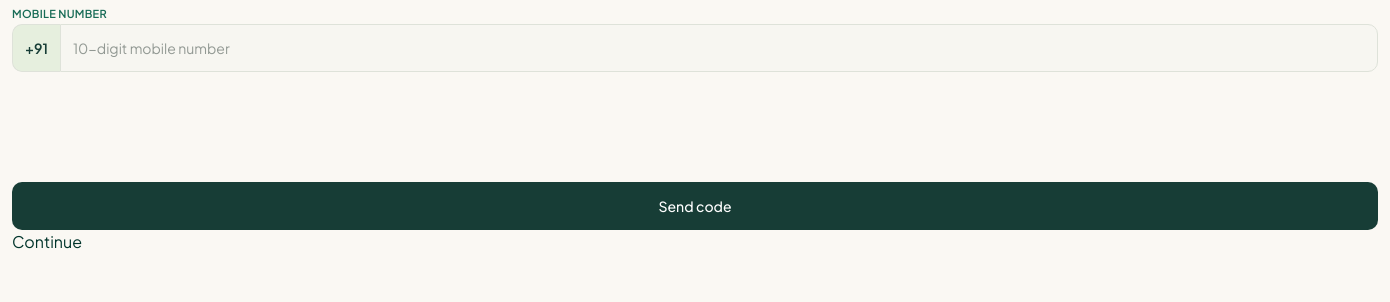
Test: MobileOtpForm › inside another form (onboarding) › still validates the number when Enter is pressed
Expected: the button "Send code" is enabled, [12, 182, 1378, 230]
Type "123" into the field labelled "Mobile number" at (719,48), box [60, 24, 1378, 72]
Then press Enter
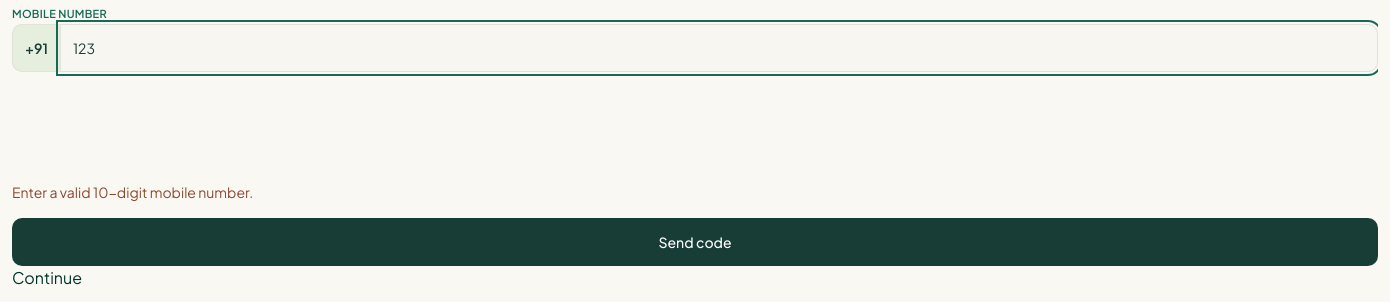
Now the message shows "valid 10-digit", box [12, 183, 253, 201]
